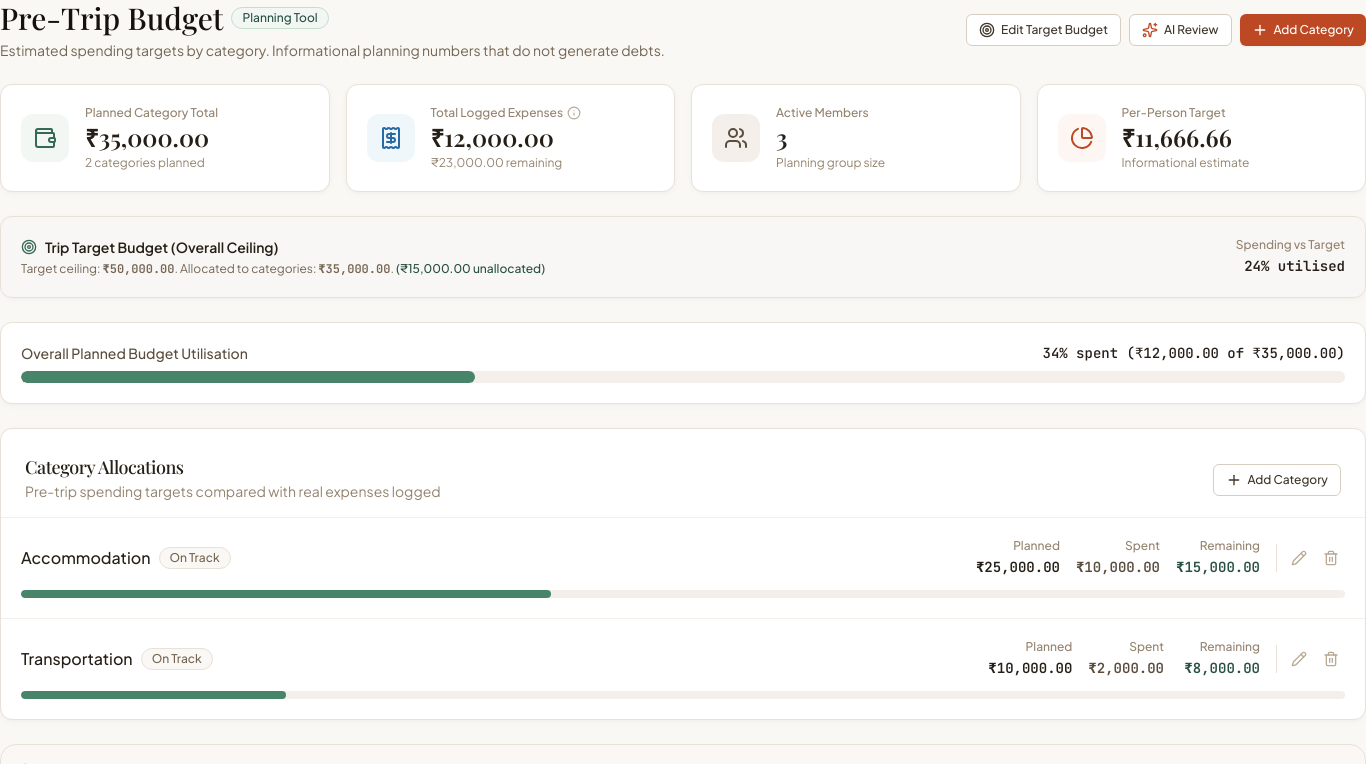
Test case: TripBudgetPage › displays backend 409 conflict error when duplicate category is created
This screenshot has width=1366, height=764.
Step 1. Click the button "Add Category" in the row of "Planning Tool" → (1303, 30), box [1240, 14, 1365, 46]
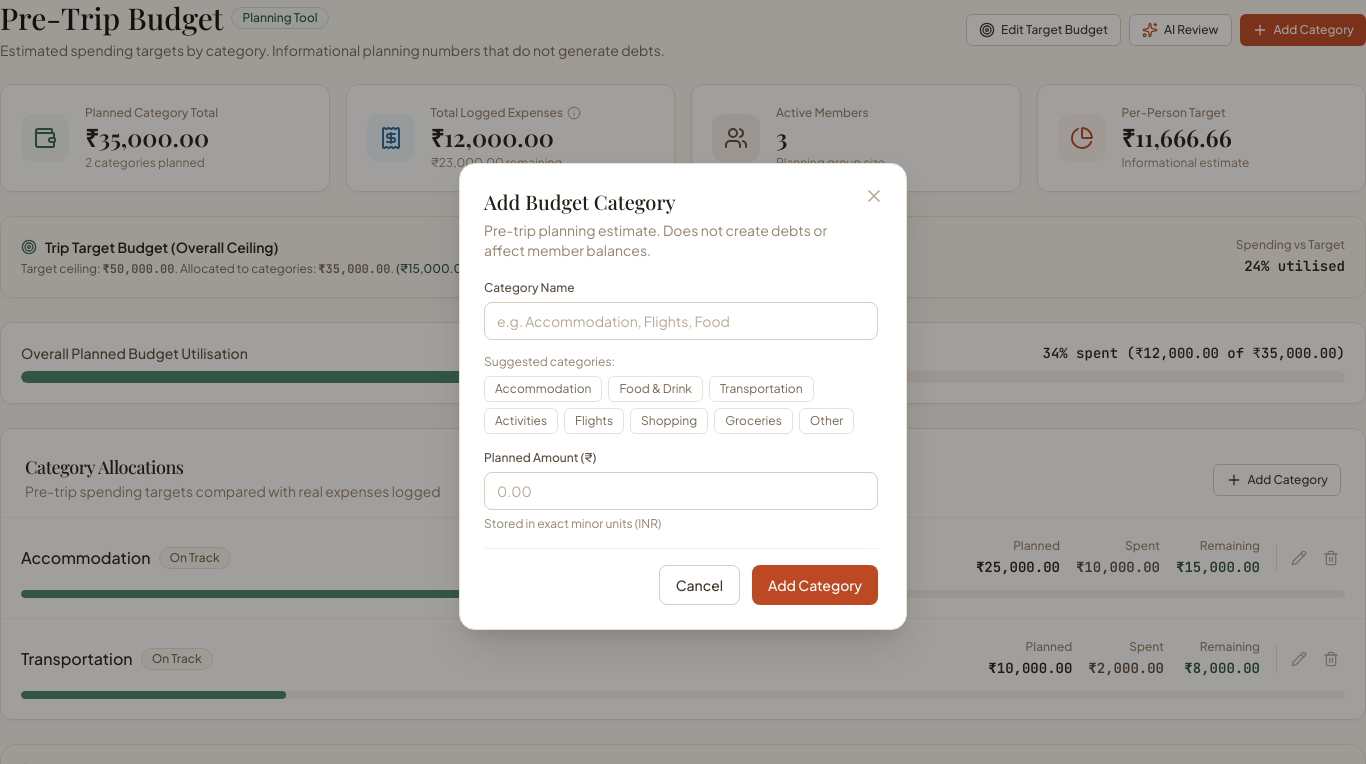
Step 2. Type "Accommodation" into the field labelled "Category Name" → (681, 320), box [484, 302, 878, 340]
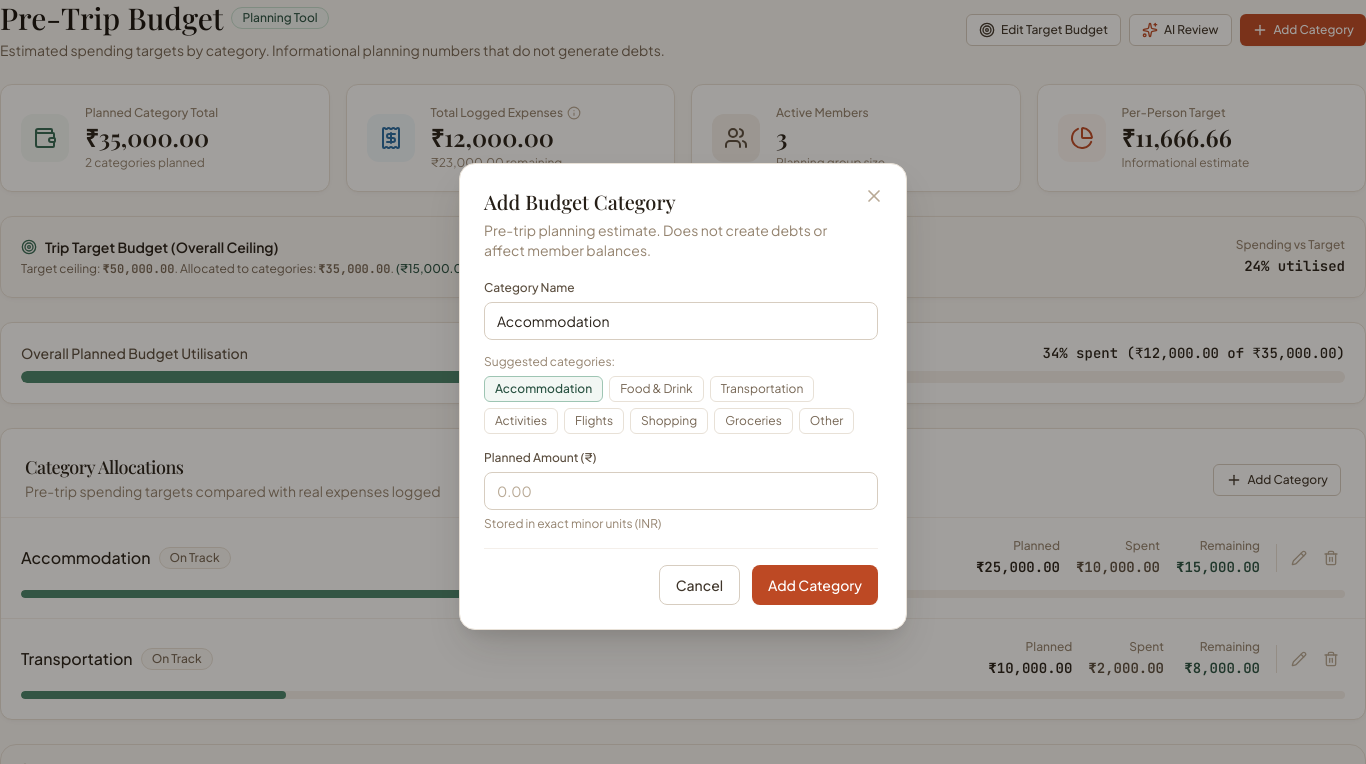
Step 3. Type "5000" into the number field labelled "Planned Amount (₹)" → (681, 490), box [484, 472, 878, 510]
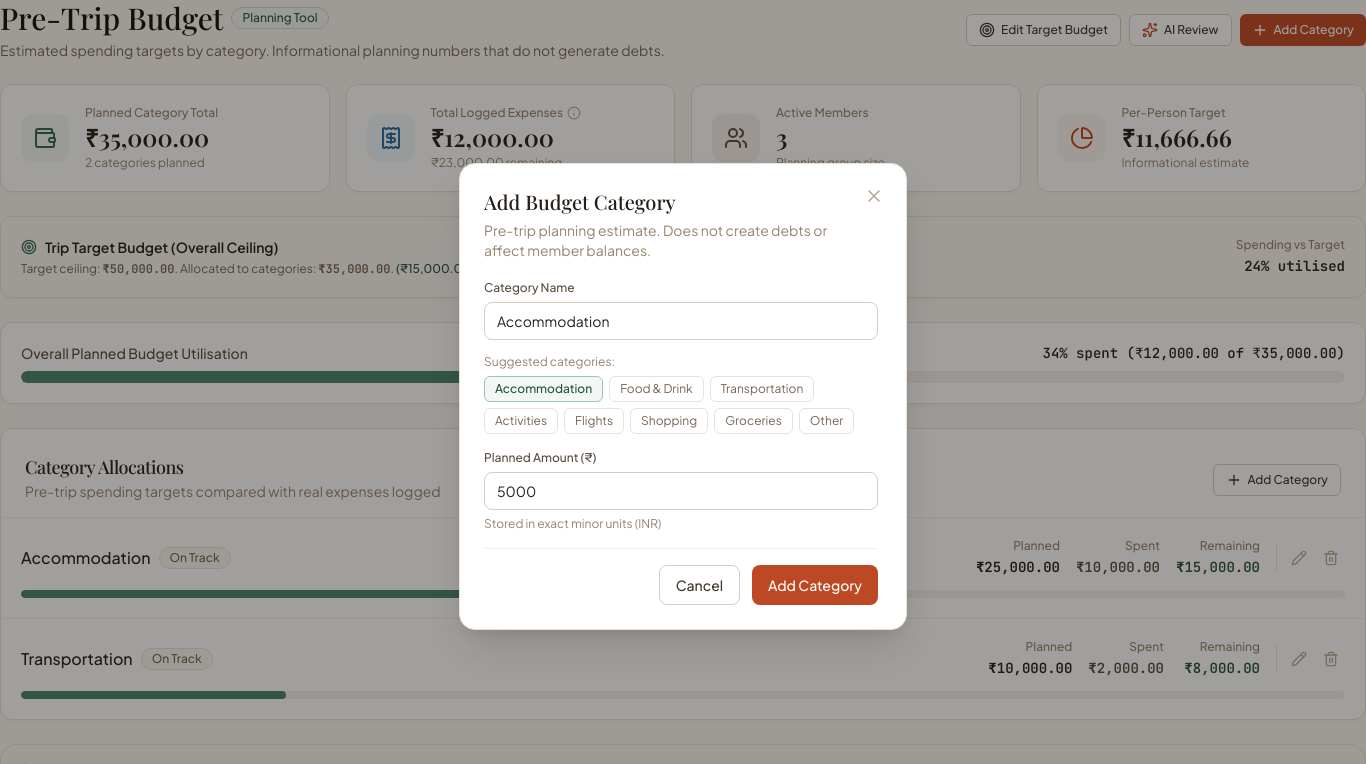
Step 4. Click the button "Add Category" → (815, 584), box [752, 564, 878, 604]
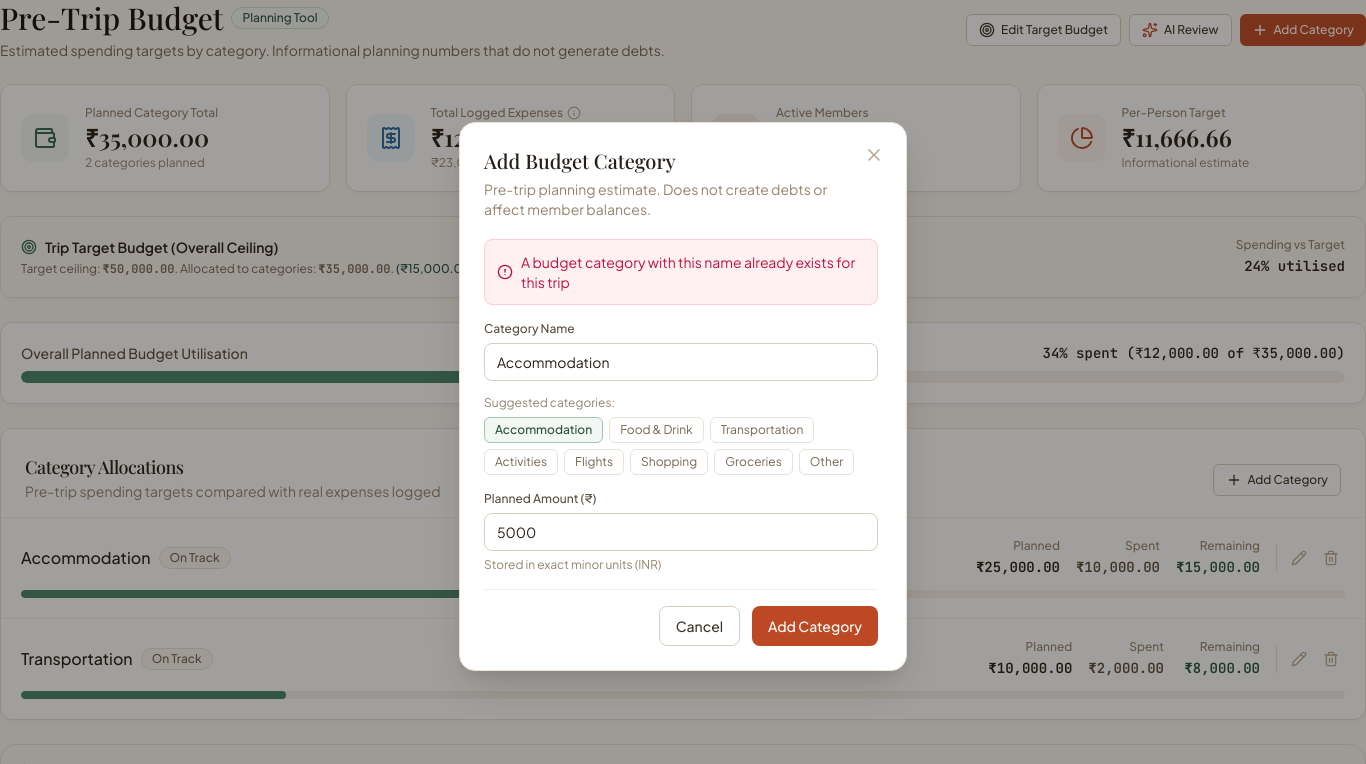
Result: the text "A budget category with this name already exists for this trip" is shown at [521, 252, 865, 292]
